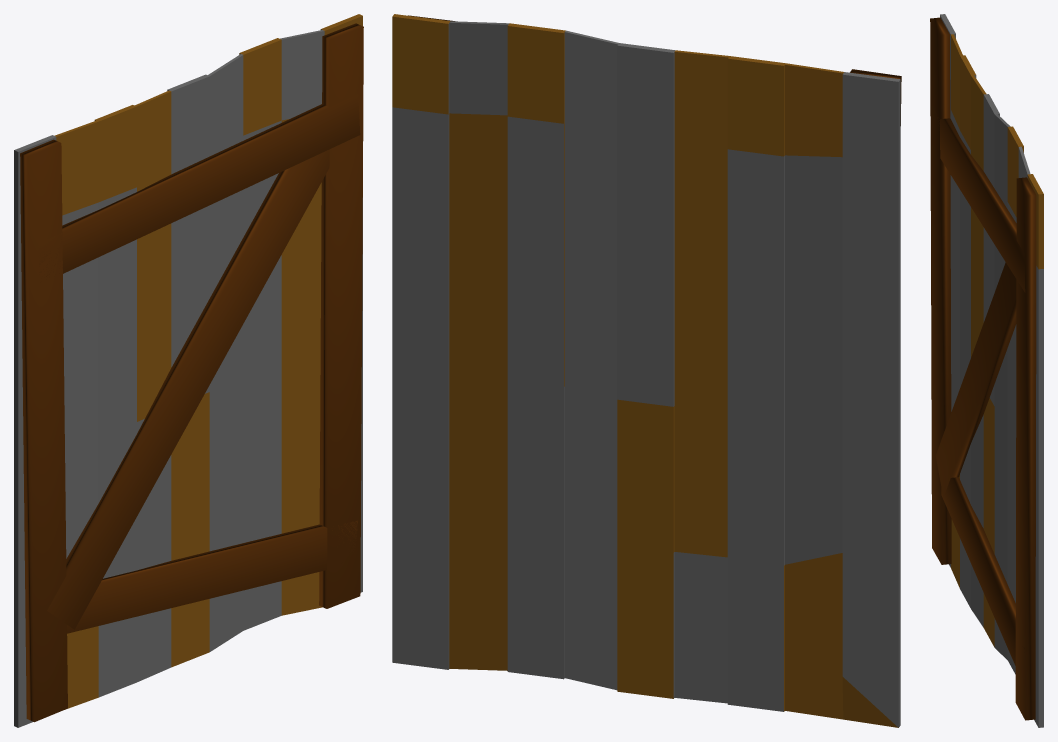
File: Rusty Fence 2.fbx
3 renders of one model, left to right at view 1: azimuth 30°, elevation 25°; view 2: azimuth 150°, elevation 25°; view 3: azimuth 270°, elevation 25°, orthographic. The views are drawn at different scales.
Visible parts, largest first — view 1: Rusty Fence.002; view 2: Rusty Fence.002; view 3: Rusty Fence.002.
Part boxes in pixels (<box>): Rusty Fence.002: <box>14,14,363,727</box>; Rusty Fence.002: <box>392,14,901,727</box>; Rusty Fence.002: <box>930,14,1043,727</box>.
Size of the model in its own units: 228 by 318 by 60.78.
